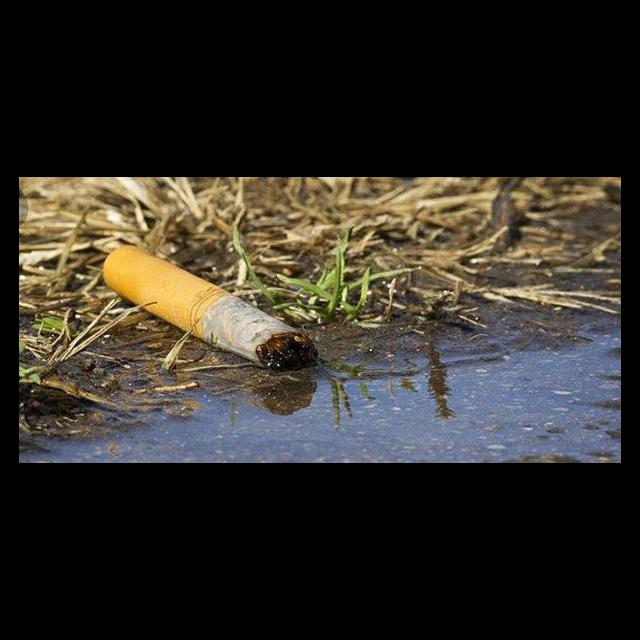Cigarette Butt: (103, 244, 319, 373)
